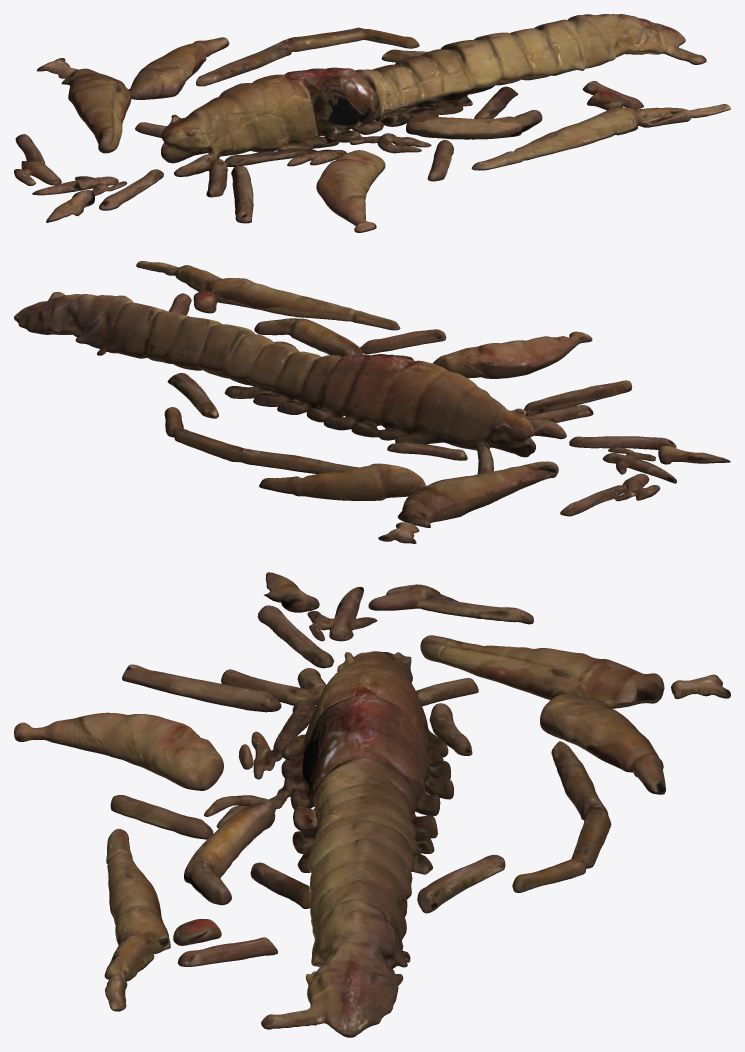
Rendered from Roach-Chitin.glb.
The picture shows the model from 3 angles, top to bottom: view 1: azimuth 30°, elevation 25°; view 2: azimuth 150°, elevation 25°; view 3: azimuth 270°, elevation 25°; orthographic projection. The views are drawn at different scales.
Bounding box in the file's own units: 2 × 0.1708 × 1.31.
Materials: 1 (1 with a texture image).
